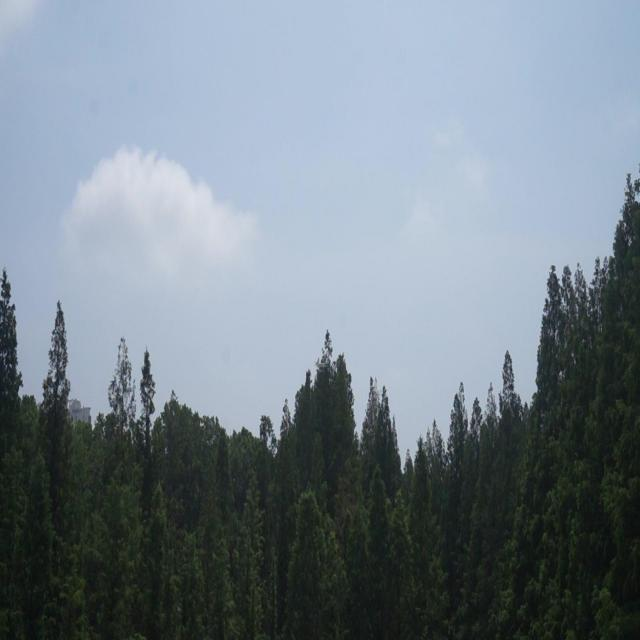UAV: (314, 357, 329, 372)
